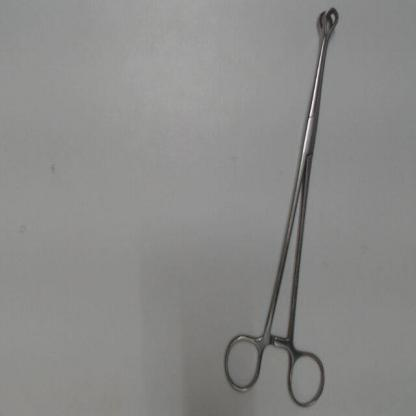8 Babcock Tissue Forceps: (214, 4, 350, 414)
